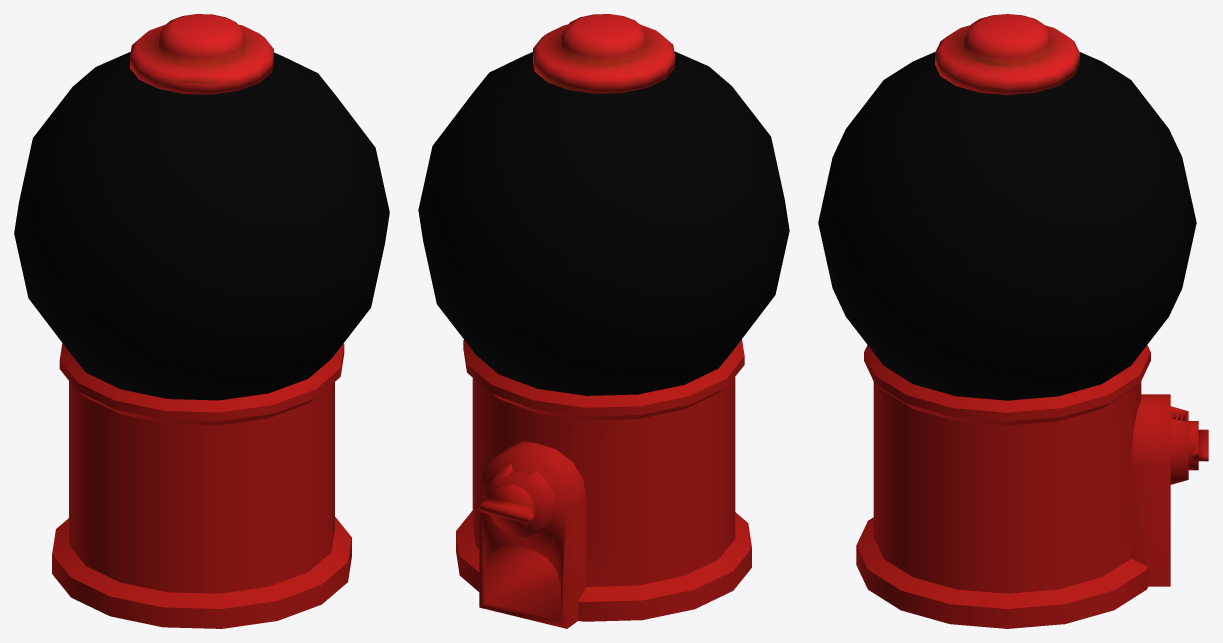
Rendered from mach (1).fbx.
3 renders of one model, left to right at view 1: azimuth 30°, elevation 25°; view 2: azimuth 150°, elevation 25°; view 3: azimuth 270°, elevation 25°, orthographic.
Visible parts, largest first — view 1: Sphere.002; view 2: Sphere.002; view 3: Sphere.002.
Part boxes in pixels (x1,y1,x2,y2): Sphere.002: [14, 14, 389, 628]; Sphere.002: [418, 14, 789, 628]; Sphere.002: [818, 14, 1208, 628].
Bounding box in the file's own units: 2758 × 4326 × 2846.
